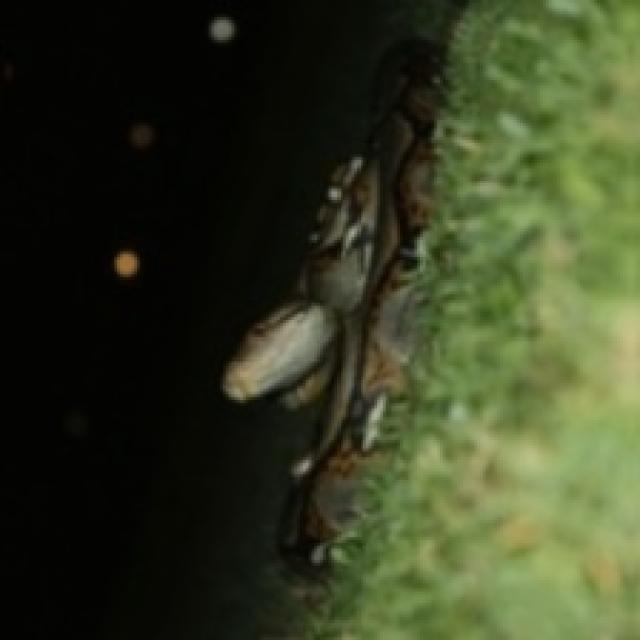reticulated python: (220, 46, 437, 563)
